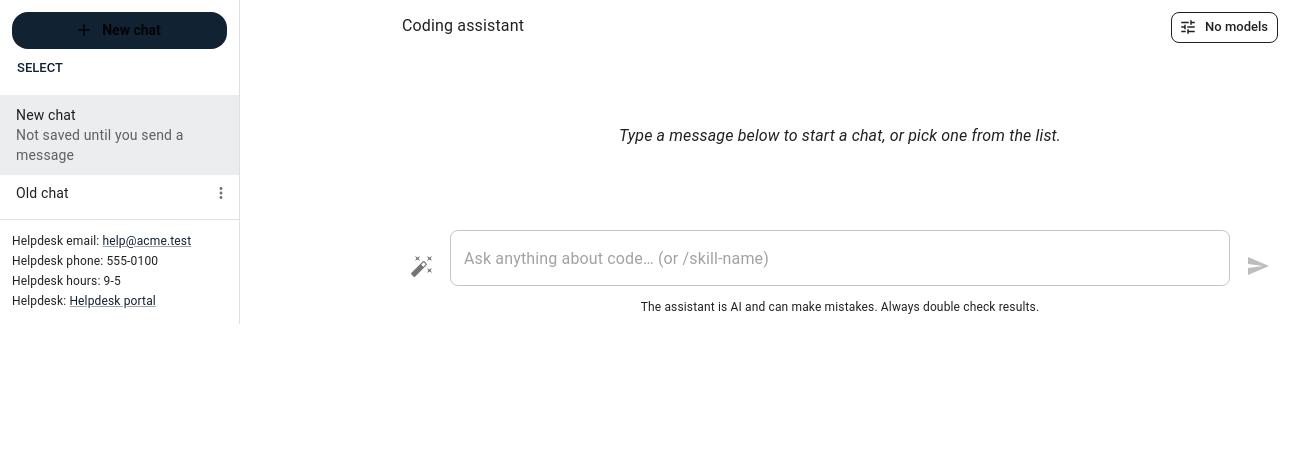
Test: chat page › restores saved reasoning when reopening a conversation
Click the button "Old chat": (42, 193) [0,175,239,211]
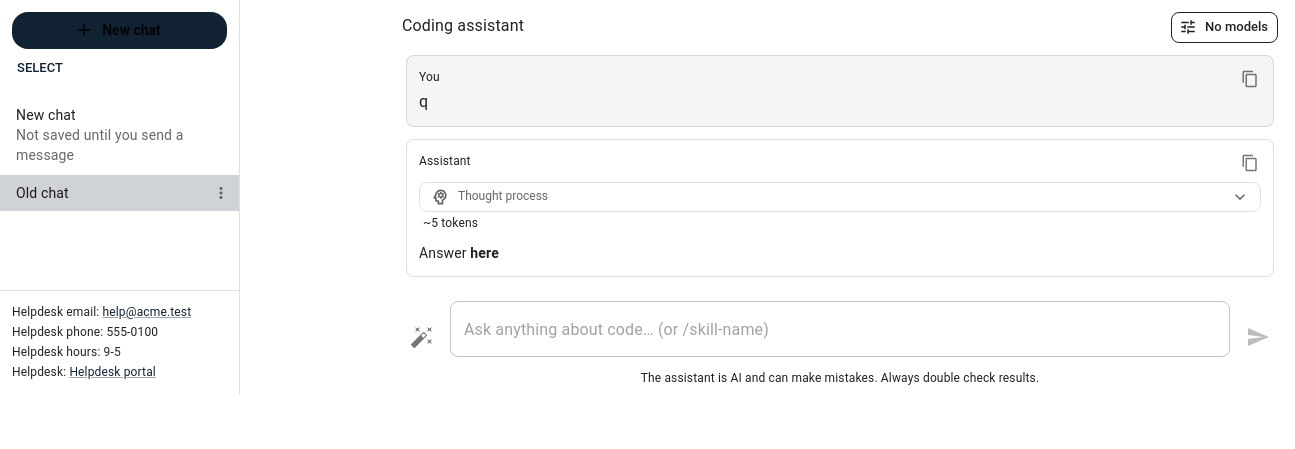
Click the button "Thought process": (503, 196) [420,183,1260,211]
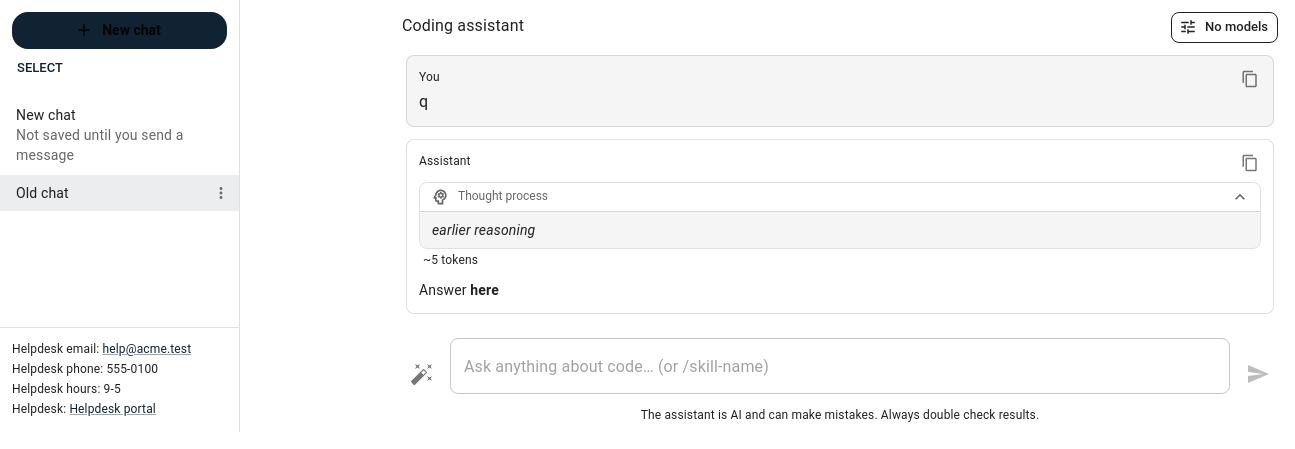
Expected: the text "earlier reasoning" is shown, [432,222,535,238]
